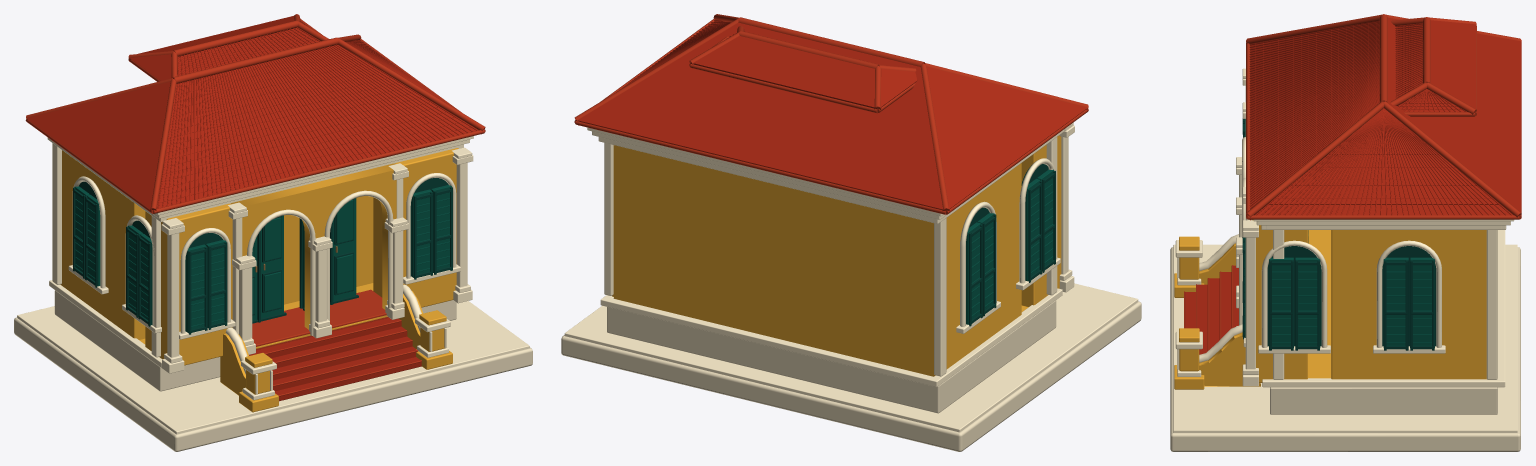
The model's file is can-tho.glb.
The picture shows the model from 3 angles, left to right: view 1: azimuth 30°, elevation 25°; view 2: azimuth 150°, elevation 25°; view 3: azimuth 270°, elevation 25°; orthographic projection. The views are drawn at different scales.
Visible parts, largest first — view 1: NHA_CO_BINH_THUY_V2; view 2: NHA_CO_BINH_THUY_V2; view 3: NHA_CO_BINH_THUY_V2.
Part boxes in pixels (x1,y1,x2,y2): NHA_CO_BINH_THUY_V2: (14, 14, 532, 451); NHA_CO_BINH_THUY_V2: (561, 14, 1141, 451); NHA_CO_BINH_THUY_V2: (1170, 14, 1521, 451).
Bounding box in the file's own units: 1.42 × 1.09 × 1.12.
